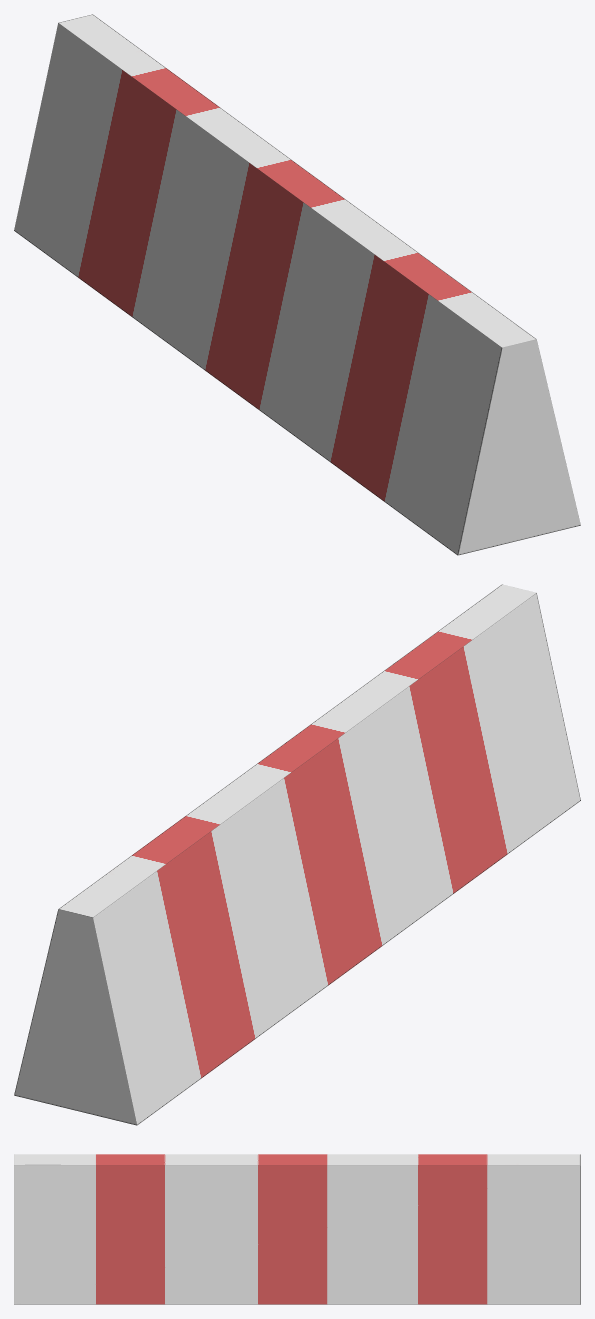
The model's file is Esteita_seinaeste_raidar.fbx.
3 views of the same model, one above another, from view 1: azimuth 30°, elevation 25°; view 2: azimuth 150°, elevation 25°; view 3: azimuth 270°, elevation 25° (orthographic). The views are drawn at different scales.
Visible parts, largest first — view 1: Cube.001; view 2: Cube.001; view 3: Cube.001.
Boxes of the visible parts, <box> form: Cube.001: <box>14,14,580,555</box>; Cube.001: <box>14,584,580,1125</box>; Cube.001: <box>14,1154,580,1304</box>.
Bounding box in the file's own units: 1.31 × 2 × 8.16.
